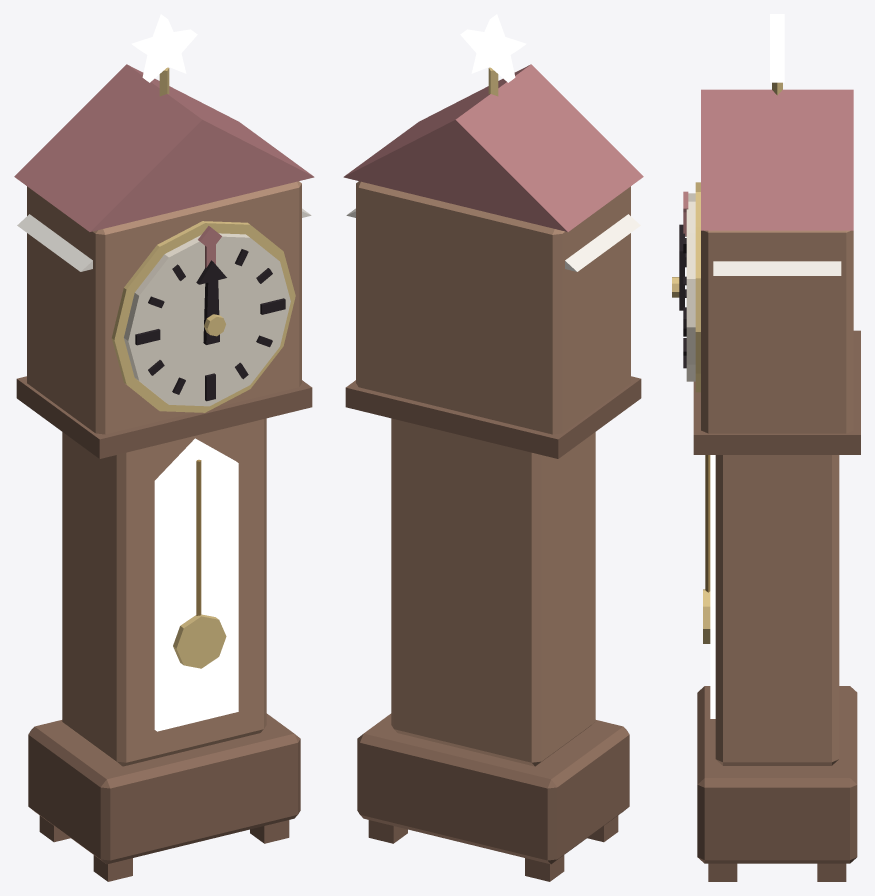
The model's file is sb_midnight_clock.glb.
3 views of the same model, side by side, from view 1: azimuth 30°, elevation 25°; view 2: azimuth 150°, elevation 25°; view 3: azimuth 270°, elevation 25° (orthographic).
Visible parts, largest first — view 1: midnight_clock, hand; view 2: midnight_clock; view 3: midnight_clock, hand.
Boxes of the visible parts, x1=… form: midnight_clock: x1=14, y1=14, x2=314, y2=881; hand: x1=196, y1=260, x2=226, y2=344; midnight_clock: x1=343, y1=14, x2=643, y2=881; midnight_clock: x1=672, y1=14, x2=860, y2=881; hand: x1=679, y1=224, x2=684, y2=310.
Size of the model in its own units: 0.74 by 2.5 by 0.52.
